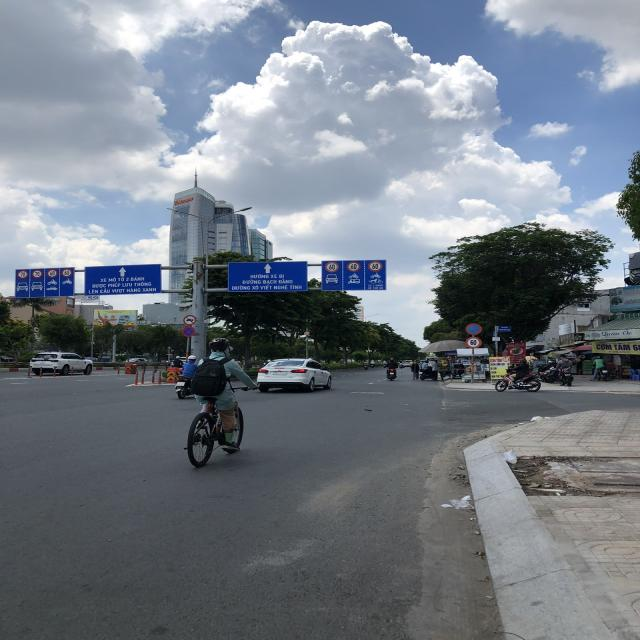Bien bao cam dung xe va do xe: (181, 325, 196, 337)
Bien bao cam xe oto tai: (182, 313, 198, 325)
Bien bao toc do toi da cho phep: (366, 260, 386, 272), (466, 336, 483, 349), (346, 260, 361, 272), (324, 261, 339, 272), (31, 268, 44, 279), (46, 268, 59, 279), (15, 269, 29, 279), (61, 267, 74, 277)
